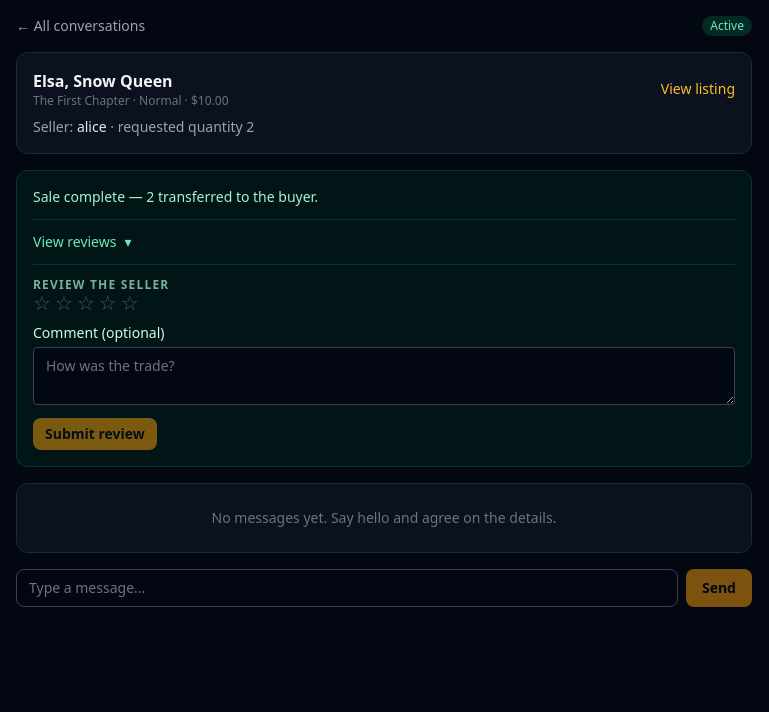
Test case: MarketplaceChatThreadPage › shows 'no review yet' for absent reviews while the prompt remains (AC-REV-2.5)
Click the button "View reviews ▾": (82, 242) [33,232,132,252]
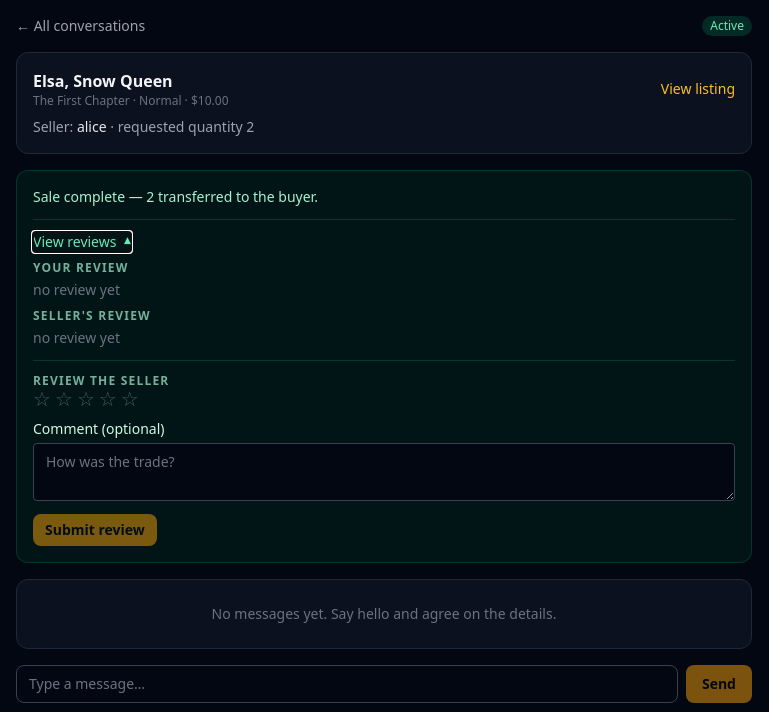
Expected: the text "Review the seller" is shown, [33,372,170,389]
Expected: the text "no review yet" is shown 2 times, [33,280,120,299]; [33,328,120,347]
